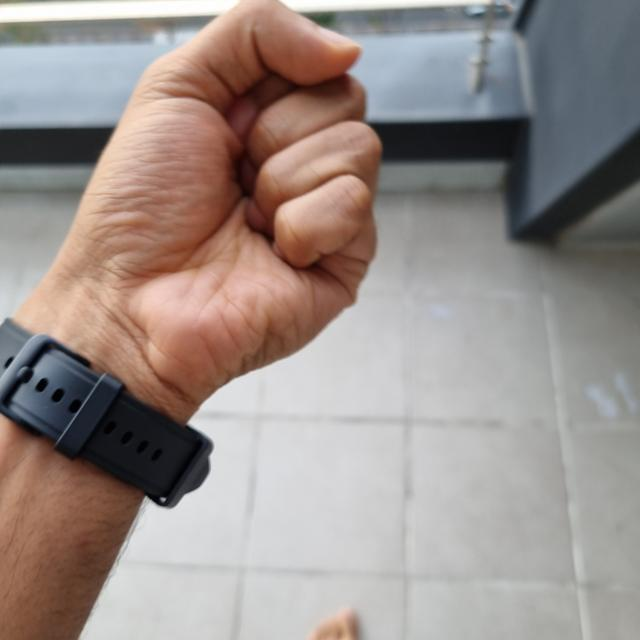Rock: (21, 1, 380, 415)
